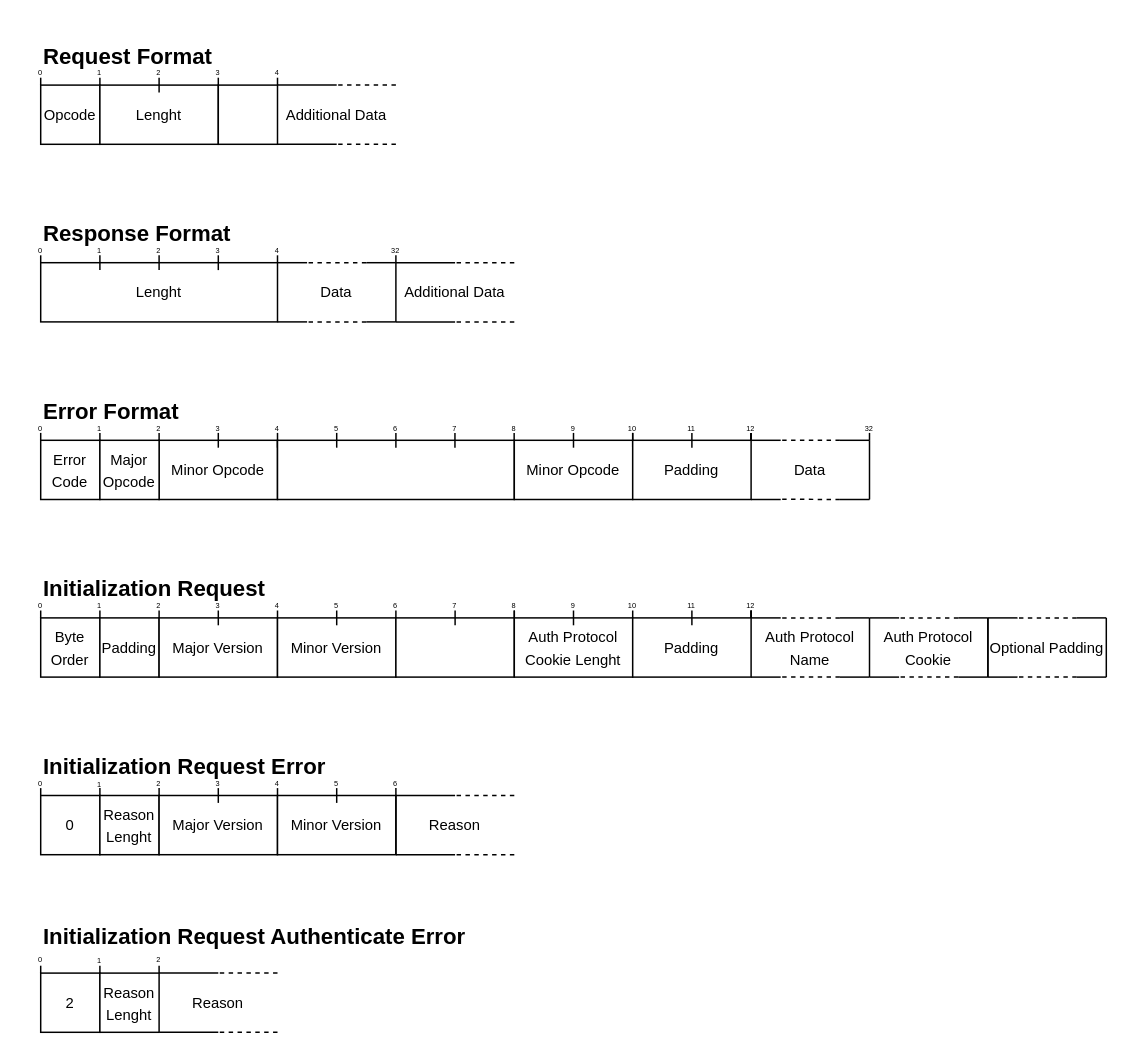
This 1134x1060 diagram has some shape labels left out. The shapes that lost their labels are listed below. From the top down, each one's box as (x1, y1, x2, y2) in pixels, then its label:
(217, 84, 278, 144): Data Byte
(276, 439, 514, 500): Failed Resource ID
(394, 616, 514, 677): Auth Protocol Name Lenght
